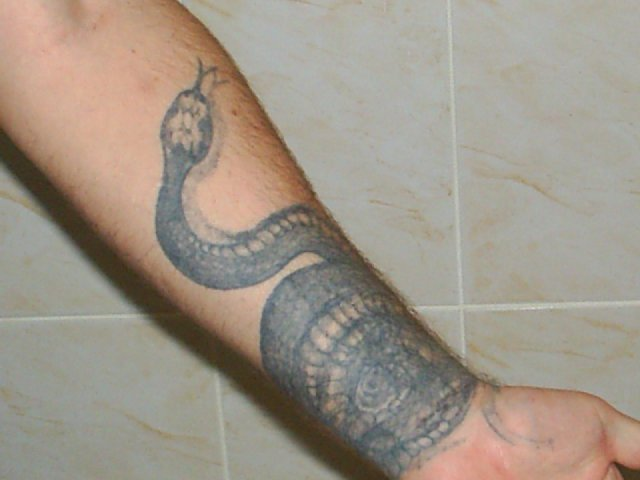tatu7_zmeya: (110, 45, 489, 457)
